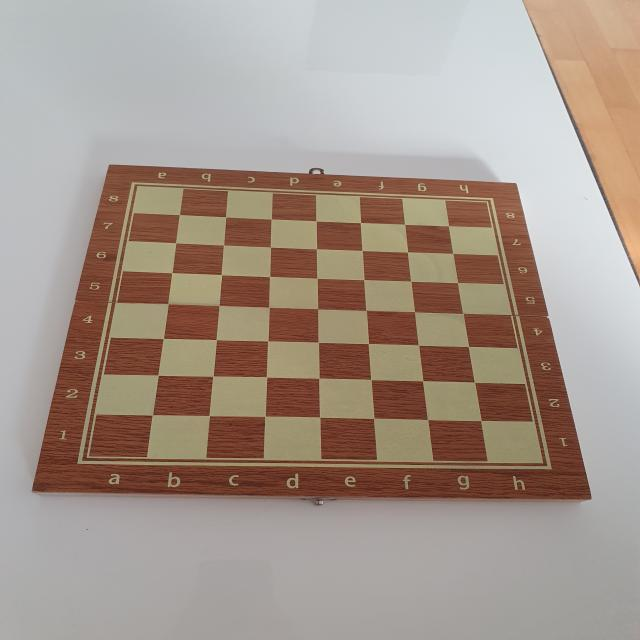chess-table-corners: (530, 456, 565, 477), (71, 451, 95, 469), (479, 194, 499, 207), (128, 178, 144, 190)
